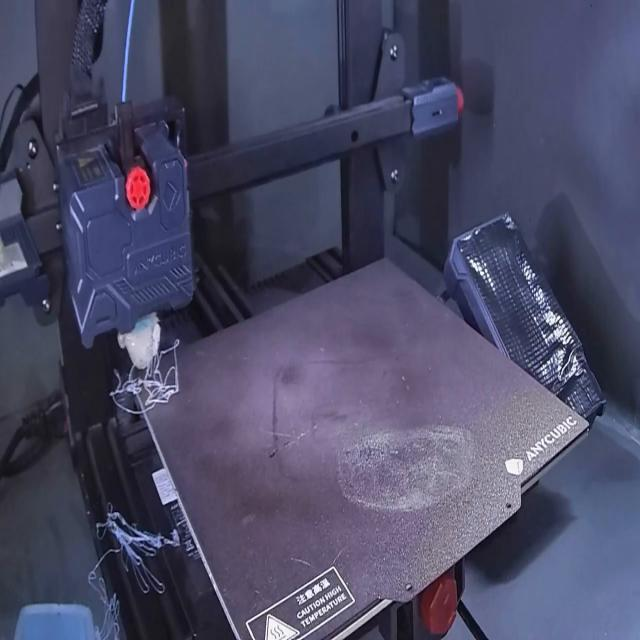spaghetti: (80, 504, 191, 640), (104, 337, 198, 421)
